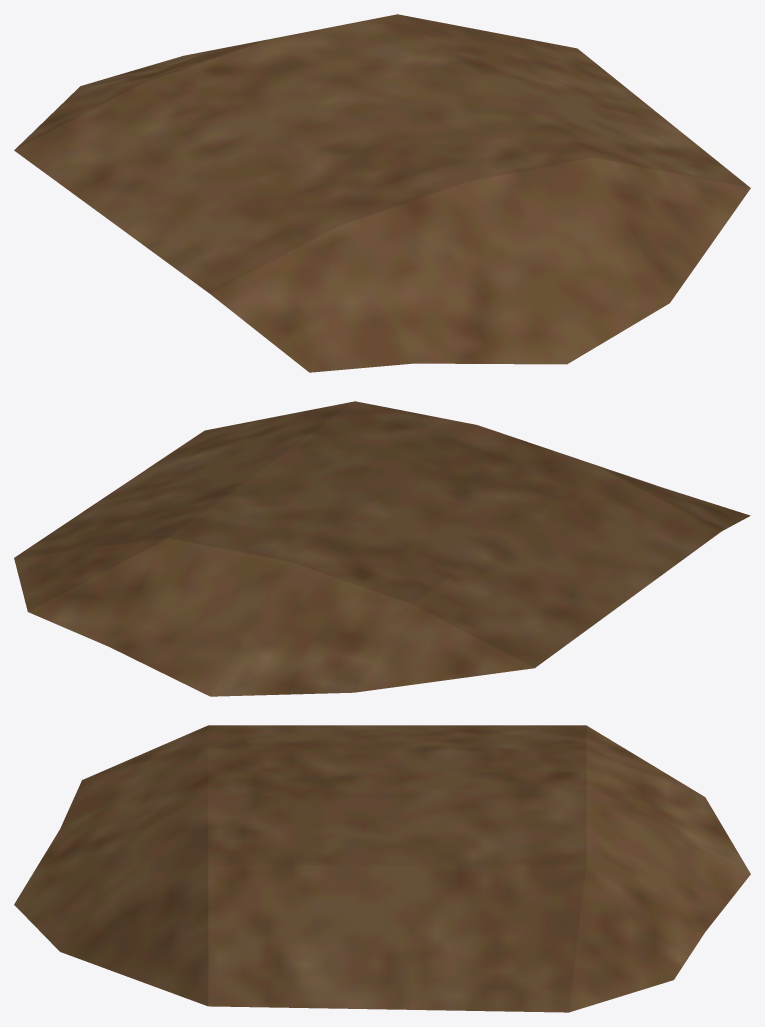
Rendered from DirtPile_01.glb.
3 renders of one model, top to bottom at view 1: azimuth 30°, elevation 25°; view 2: azimuth 150°, elevation 25°; view 3: azimuth 270°, elevation 25°, orthographic. The views are drawn at different scales.
Visible parts, largest first — view 1: DirtPile_01; view 2: DirtPile_01; view 3: DirtPile_01.
Part boxes in pixels (bbox=[...]): DirtPile_01: bbox=[14, 14, 750, 372]; DirtPile_01: bbox=[14, 401, 750, 696]; DirtPile_01: bbox=[14, 725, 750, 1012].
Size of the model in its own units: 766 by 144 by 913.
1 material, 1 textured.
